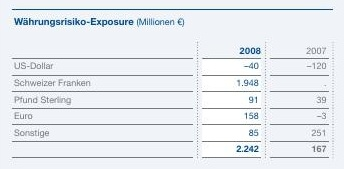table: (0, 0, 344, 169)
